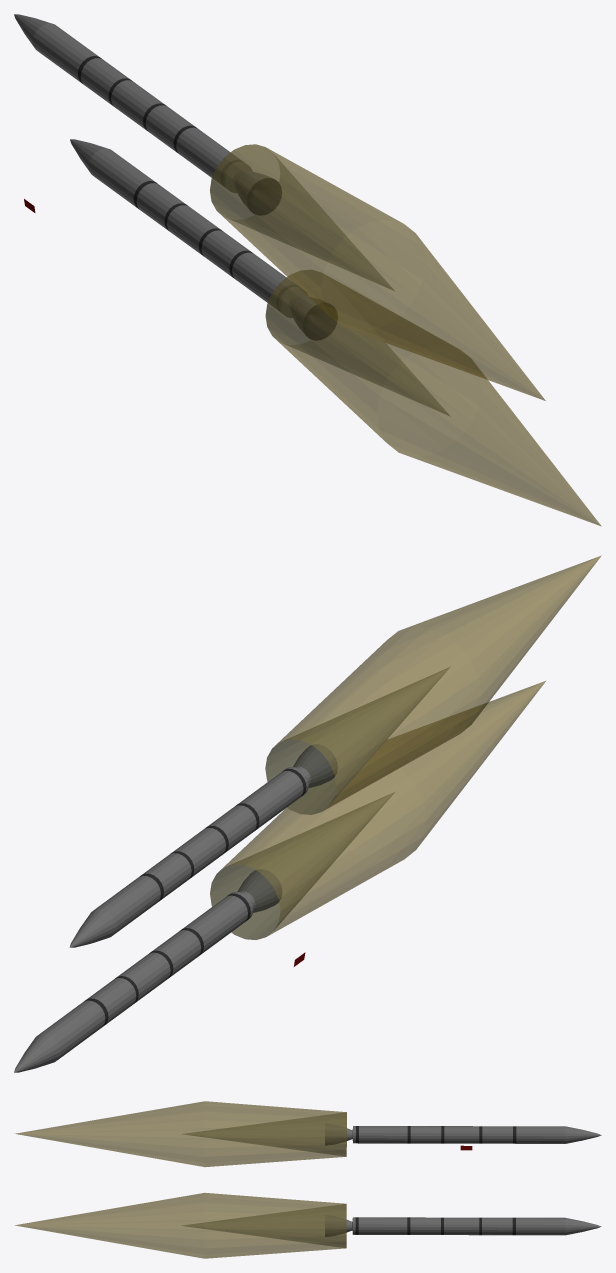
The model's file is H2A-SSB.obj.
3 views of the same model, one above another, from view 1: azimuth 30°, elevation 25°; view 2: azimuth 150°, elevation 25°; view 3: azimuth 270°, elevation 25° (orthographic). The views are drawn at different scales.
Parts seen in each view (by area): view 1: ShapeIndexedFaceSet.042_ShapeIndexedFaceSet.043, ShapeIndexedFaceSet.038_ShapeIndexedFaceSet.039, ShapeIndexedFaceSet.043_ShapeIndexedFaceSet.044, ShapeIndexedFaceSet.040_ShapeIndexedFaceSet.041, ShapeIndexedFaceSet.036_ShapeIndexedFaceSet.037, ShapeIndexedFaceSet.039_ShapeIndexedFaceSet.040, ShapeIndexedFaceSet.041_ShapeIndexedFaceSet.042, ShapeIndexedFaceSet.037_ShapeIndexedFaceSet.038; view 2: ShapeIndexedFaceSet.042_ShapeIndexedFaceSet.043, ShapeIndexedFaceSet.038_ShapeIndexedFaceSet.039, ShapeIndexedFaceSet.036_ShapeIndexedFaceSet.037, ShapeIndexedFaceSet.040_ShapeIndexedFaceSet.041, ShapeIndexedFaceSet.043_ShapeIndexedFaceSet.044, ShapeIndexedFaceSet.039_ShapeIndexedFaceSet.040, ShapeIndexedFaceSet.041_ShapeIndexedFaceSet.042, ShapeIndexedFaceSet.037_ShapeIndexedFaceSet.038; view 3: ShapeIndexedFaceSet.038_ShapeIndexedFaceSet.039, ShapeIndexedFaceSet.042_ShapeIndexedFaceSet.043, ShapeIndexedFaceSet.036_ShapeIndexedFaceSet.037, ShapeIndexedFaceSet.040_ShapeIndexedFaceSet.041, ShapeIndexedFaceSet.039_ShapeIndexedFaceSet.040, ShapeIndexedFaceSet.043_ShapeIndexedFaceSet.044, ShapeIndexedFaceSet.041_ShapeIndexedFaceSet.042, ShapeIndexedFaceSet.037_ShapeIndexedFaceSet.038.
Boxes of the visible parts, left/top/right/bottom form: ShapeIndexedFaceSet.042_ShapeIndexedFaceSet.043: left=210, top=144, right=545, bottom=400; ShapeIndexedFaceSet.038_ShapeIndexedFaceSet.039: left=266, top=274, right=601, bottom=526; ShapeIndexedFaceSet.043_ShapeIndexedFaceSet.044: left=210, top=144, right=394, bottom=290; ShapeIndexedFaceSet.040_ShapeIndexedFaceSet.041: left=14, top=14, right=272, bottom=209; ShapeIndexedFaceSet.036_ShapeIndexedFaceSet.037: left=70, top=139, right=316, bottom=334; ShapeIndexedFaceSet.039_ShapeIndexedFaceSet.040: left=266, top=277, right=450, bottom=416; ShapeIndexedFaceSet.041_ShapeIndexedFaceSet.042: left=78, top=56, right=281, bottom=215; ShapeIndexedFaceSet.037_ShapeIndexedFaceSet.038: left=133, top=181, right=336, bottom=340; ShapeIndexedFaceSet.042_ShapeIndexedFaceSet.043: left=271, top=555, right=601, bottom=811; ShapeIndexedFaceSet.038_ShapeIndexedFaceSet.039: left=218, top=681, right=545, bottom=939; ShapeIndexedFaceSet.036_ShapeIndexedFaceSet.037: left=14, top=869, right=281, bottom=1072; ShapeIndexedFaceSet.040_ShapeIndexedFaceSet.041: left=69, top=744, right=337, bottom=947; ShapeIndexedFaceSet.043_ShapeIndexedFaceSet.044: left=265, top=667, right=449, bottom=814; ShapeIndexedFaceSet.039_ShapeIndexedFaceSet.040: left=210, top=792, right=394, bottom=939; ShapeIndexedFaceSet.041_ShapeIndexedFaceSet.042: left=139, top=768, right=306, bottom=901; ShapeIndexedFaceSet.037_ShapeIndexedFaceSet.038: left=84, top=893, right=250, bottom=1026; ShapeIndexedFaceSet.038_ShapeIndexedFaceSet.039: left=15, top=1193, right=346, bottom=1258; ShapeIndexedFaceSet.042_ShapeIndexedFaceSet.043: left=15, top=1101, right=346, bottom=1166; ShapeIndexedFaceSet.036_ShapeIndexedFaceSet.037: left=325, top=1215, right=601, bottom=1236; ShapeIndexedFaceSet.040_ShapeIndexedFaceSet.041: left=325, top=1123, right=601, bottom=1145; ShapeIndexedFaceSet.039_ShapeIndexedFaceSet.040: left=182, top=1204, right=346, bottom=1247; ShapeIndexedFaceSet.043_ShapeIndexedFaceSet.044: left=183, top=1112, right=346, bottom=1156; ShapeIndexedFaceSet.041_ShapeIndexedFaceSet.042: left=356, top=1126, right=516, bottom=1143; ShapeIndexedFaceSet.037_ShapeIndexedFaceSet.038: left=355, top=1217, right=515, bottom=1235.
Size of the model in its own units: 5.6 by 6.15 by 23.95.
